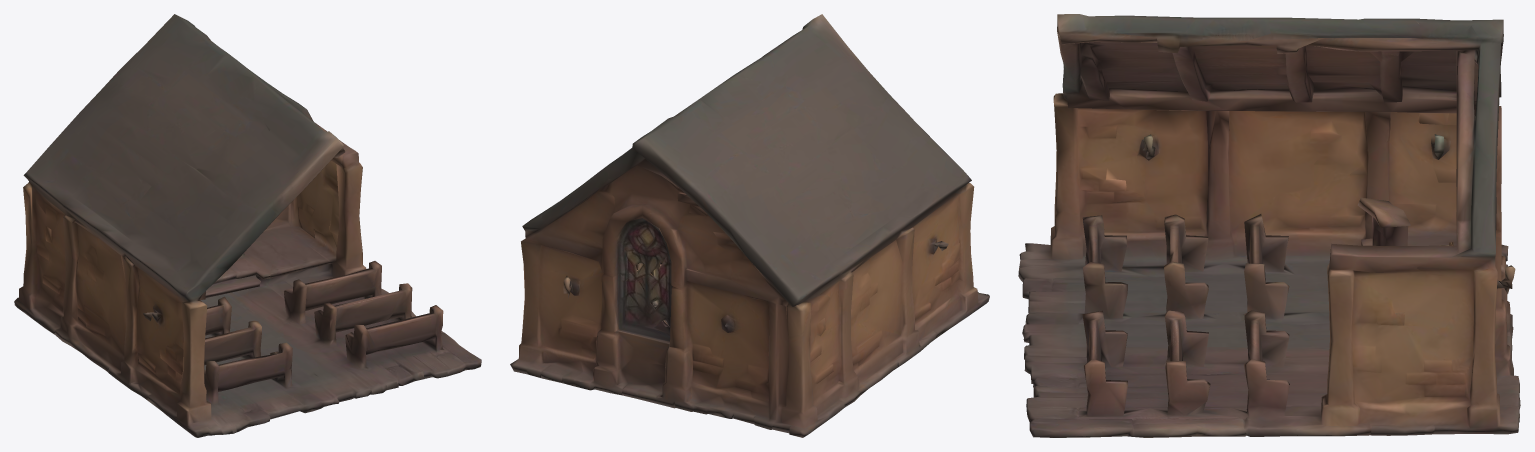
File: church_interior.glb
3 views of the same model, side by side, from view 1: azimuth 30°, elevation 25°; view 2: azimuth 150°, elevation 25°; view 3: azimuth 270°, elevation 25° (orthographic). The views are drawn at different scales.
Visible parts, largest first — view 1: tripo_node_86a28609-9784-4dff-9c8e-4a16e7ef065e; view 2: tripo_node_86a28609-9784-4dff-9c8e-4a16e7ef065e; view 3: tripo_node_86a28609-9784-4dff-9c8e-4a16e7ef065e.
Boxes of the visible parts, bbox=[...] form: tripo_node_86a28609-9784-4dff-9c8e-4a16e7ef065e: bbox=[14, 14, 481, 437]; tripo_node_86a28609-9784-4dff-9c8e-4a16e7ef065e: bbox=[510, 14, 989, 437]; tripo_node_86a28609-9784-4dff-9c8e-4a16e7ef065e: bbox=[1018, 14, 1520, 437].
Bounding box in the file's own units: 0.9011 × 0.7447 × 1.
Materials: 1 (1 with a texture image).
